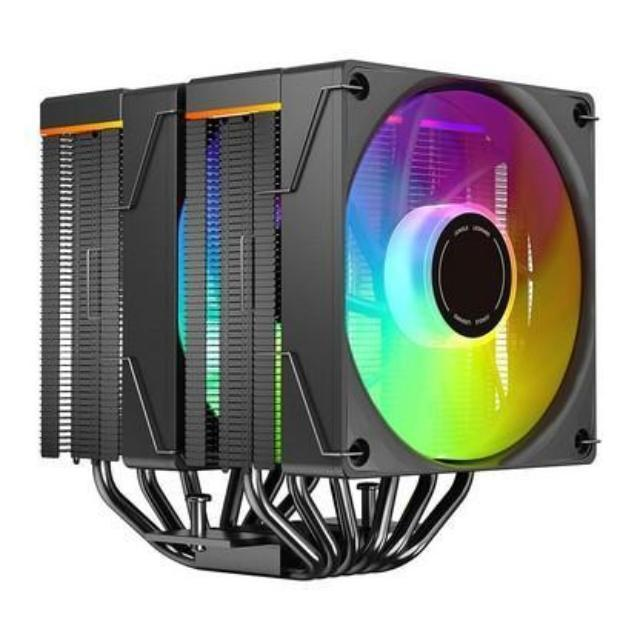CPU_Fan: (36, 52, 604, 580)
